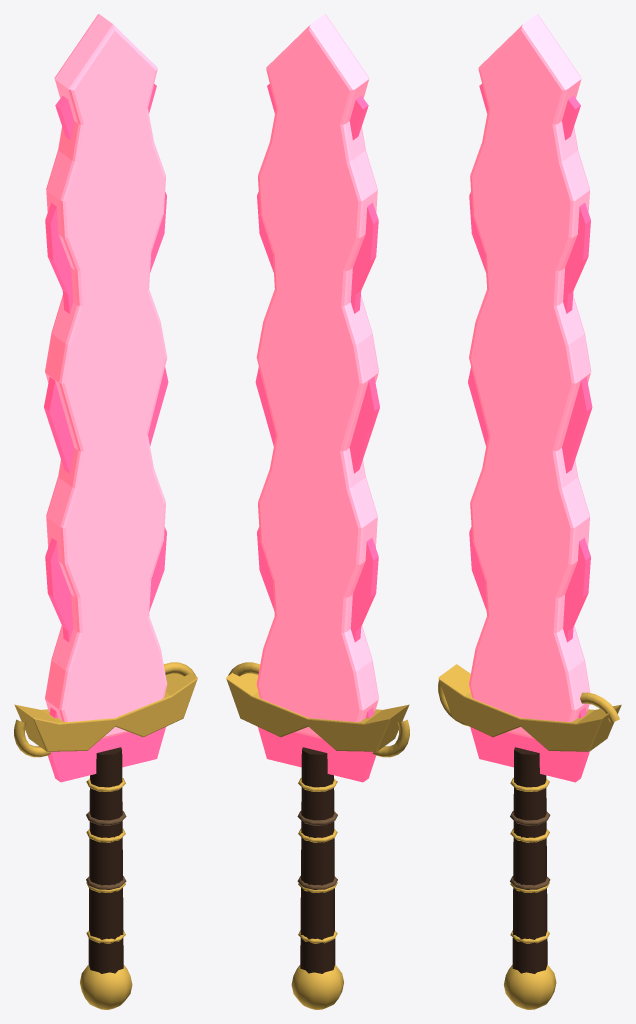
File: greatsword_f3_28364dda.glb
3 renders of one model, left to right at view 1: azimuth 30°, elevation 25°; view 2: azimuth 150°, elevation 25°; view 3: azimuth 330°, elevation 25°, orthographic.
Visible parts, largest first — view 1: m1_ow80_, m0_gm130_, m20_ow80_, m18_ow80_, m21_ow80_; view 2: m1_ow80_, m0_gm130_, m20_ow80_, m18_ow80_, m21_ow80_; view 3: m1_ow80_, m0_gm130_, m20_ow80_, m18_ow80_, m21_ow80_.
Boxes of the visible parts, x1,y1,x2,y2 form: m1_ow80_: (45, 14, 167, 739); m0_gm130_: (44, 84, 168, 782); m20_ow80_: (14, 662, 197, 1009); m18_ow80_: (88, 747, 123, 973); m21_ow80_: (86, 811, 126, 889); m1_ow80_: (256, 14, 378, 739); m0_gm130_: (255, 84, 379, 782); m20_ow80_: (226, 662, 409, 1009); m18_ow80_: (300, 747, 335, 973); m21_ow80_: (297, 811, 337, 889); m1_ow80_: (469, 14, 591, 739); m0_gm130_: (468, 84, 592, 782); m20_ow80_: (438, 664, 621, 1009); m18_ow80_: (512, 747, 547, 973); m21_ow80_: (510, 811, 550, 889).
Size of the model in its own units: 0.6467 by 3.36 by 0.1552.
